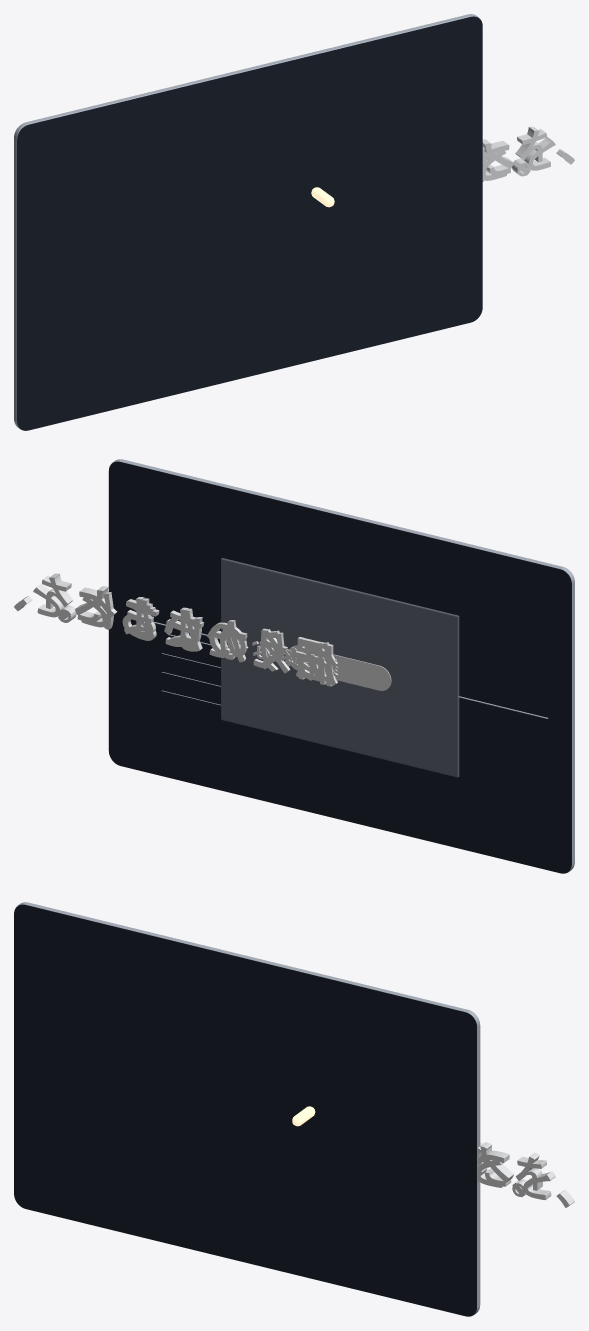
The model's file is page-parts.glb.
3 renders of one model, top to bottom at view 1: azimuth 30°, elevation 25°; view 2: azimuth 150°, elevation 25°; view 3: azimuth 330°, elevation 25°, orthographic.
Parts seen in each view (by area): view 1: part_14, part_06, part_07; view 2: part_14, part_05, part_06, part_07, part_08, part_15; view 3: part_14, part_06, part_07.
Part boxes in pixels (<box>): part_14: <box>14,14,482,430</box>; part_06: <box>482,126,574,180</box>; part_07: <box>482,141,530,181</box>; part_14: <box>108,459,574,873</box>; part_05: <box>221,558,459,777</box>; part_06: <box>14,573,337,686</box>; part_07: <box>58,587,333,682</box>; part_08: <box>58,598,337,686</box>; part_15: <box>289,645,391,690</box>; part_14: <box>14,902,480,1316</box>; part_06: <box>477,1142,574,1207</box>; part_07: <box>477,1142,525,1197</box>.
Bounding box in the file's own units: 9.34 × 4.9 × 0.63.
